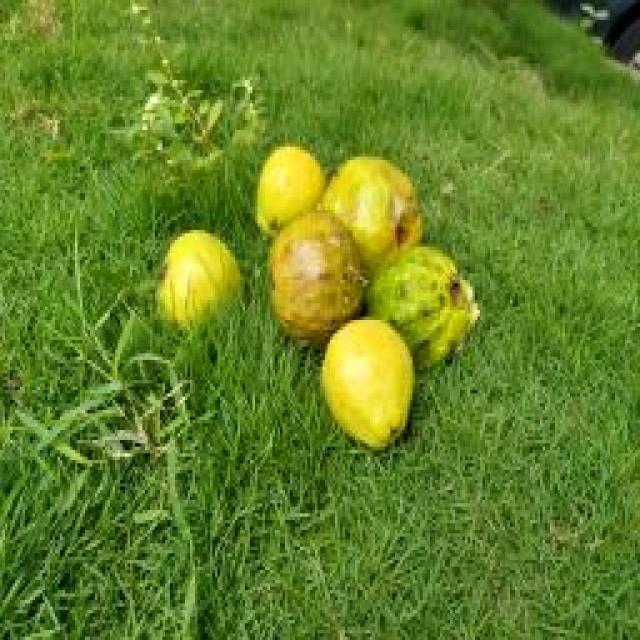Organik: (309, 131, 425, 264), (152, 224, 256, 364), (372, 243, 488, 368), (270, 211, 366, 358), (245, 149, 328, 237)
